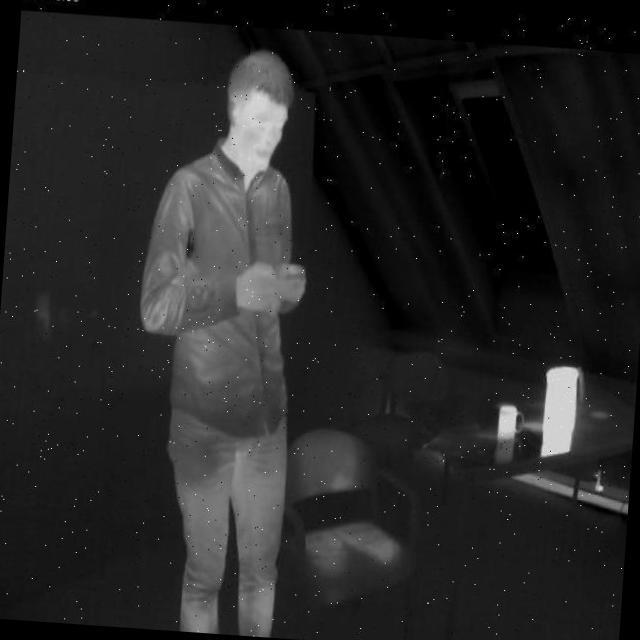person: (112, 32, 332, 638)
